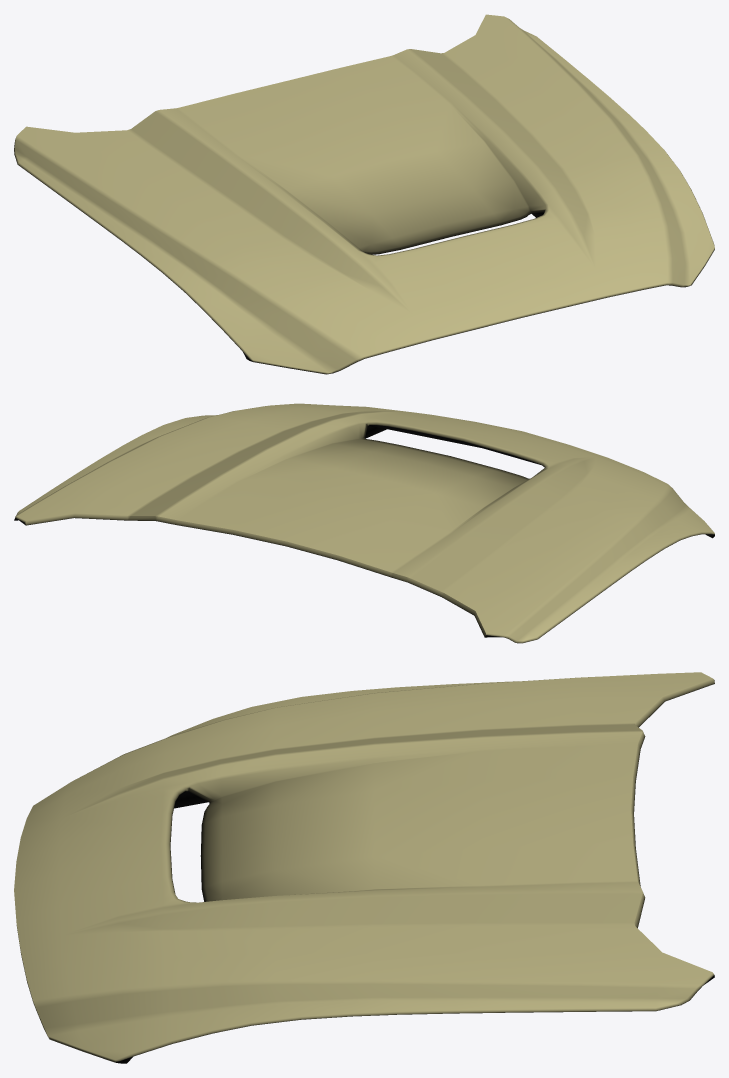
The model's file is Mustang16_Hood_07_Duco.fbx.
3 views of the same model, one above another, from view 1: azimuth 30°, elevation 25°; view 2: azimuth 150°, elevation 25°; view 3: azimuth 270°, elevation 25° (orthographic). The views are drawn at different scales.
Parts seen in each view (by area): view 1: Mustang16_Hood_07_Duco; view 2: Mustang16_Hood_07_Duco; view 3: Mustang16_Hood_07_Duco.
Boxes of the visible parts, x1=… form: Mustang16_Hood_07_Duco: x1=14, y1=14, x2=714, y2=374; Mustang16_Hood_07_Duco: x1=14, y1=403, x2=714, y2=643; Mustang16_Hood_07_Duco: x1=14, y1=672, x2=714, y2=1063.
Size of the model in its own units: 168 by 26.72 by 149.
